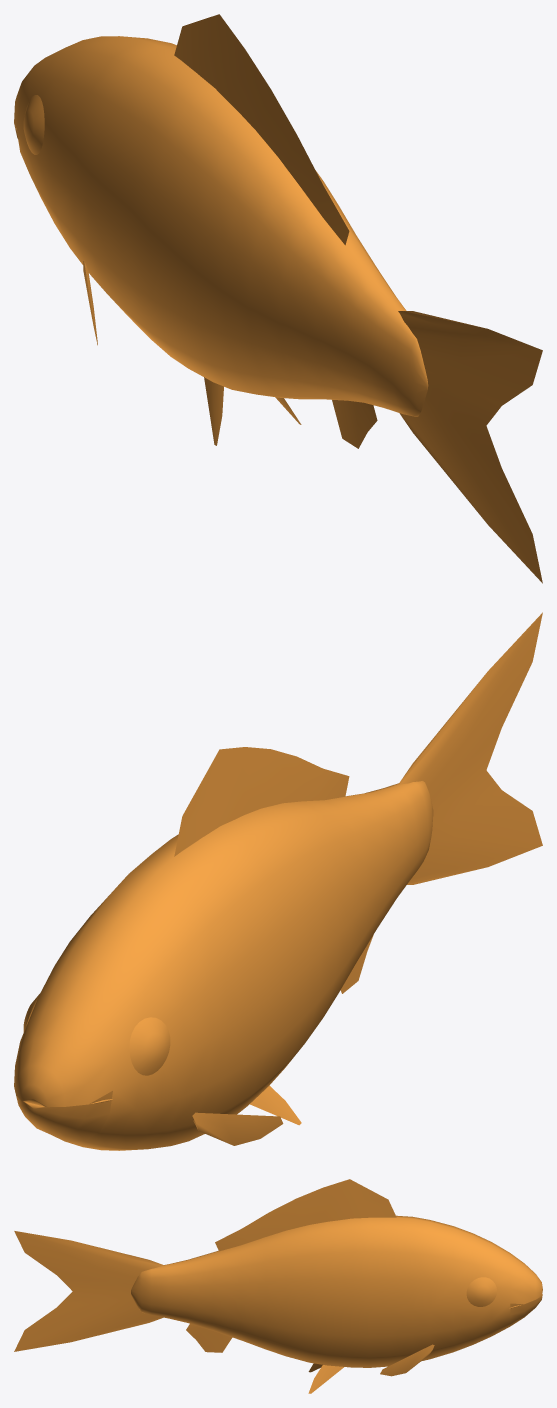
The model's file is goldfish_common_game.glb.
3 renders of one model, top to bottom at view 1: azimuth 30°, elevation 25°; view 2: azimuth 150°, elevation 25°; view 3: azimuth 270°, elevation 25°, orthographic. The views are drawn at different scales.
Visible parts, largest first — view 1: goldfish_common_game; view 2: goldfish_common_game; view 3: goldfish_common_game.
Boxes of the visible parts, bbox=[...] form: goldfish_common_game: bbox=[14, 14, 542, 583]; goldfish_common_game: bbox=[14, 612, 542, 1150]; goldfish_common_game: bbox=[14, 1179, 542, 1393].
Bounding box in the file's own units: 0.0313 × 0.0633 × 0.1487.
